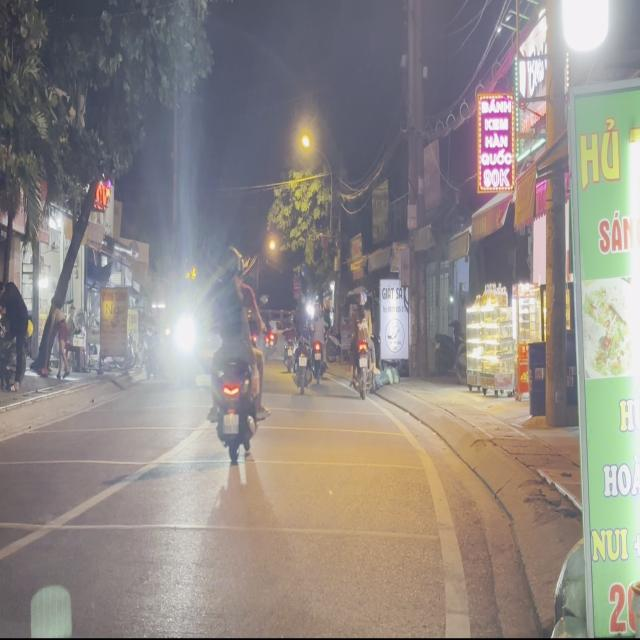licenseplate: (204, 238, 272, 466)
nohelmet: (223, 414, 239, 434)
